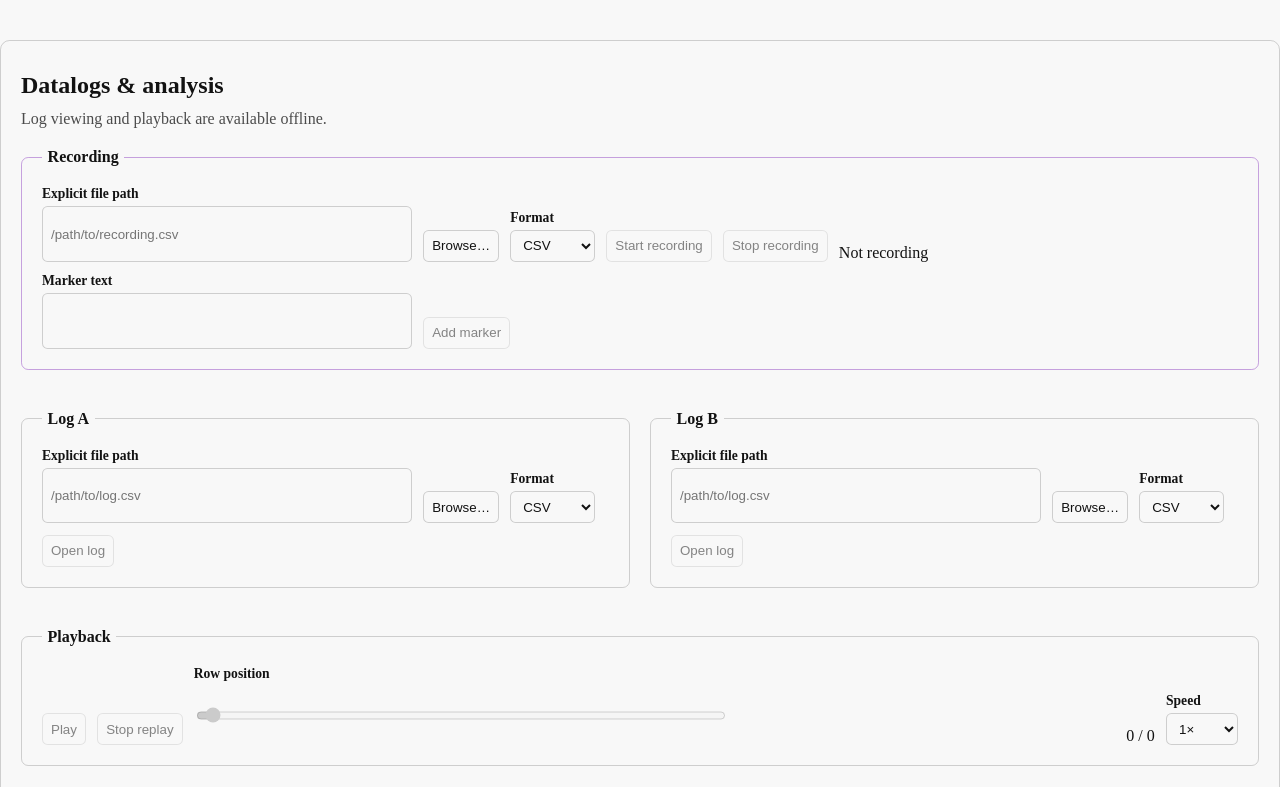
DatalogPanel › Browse buttons (native file dialogs) › Recording Browse uses save() and fills the recording destination path
Click the button "Browse…" in the row of "Not recording" at [461, 246], box [423,230,499,262]
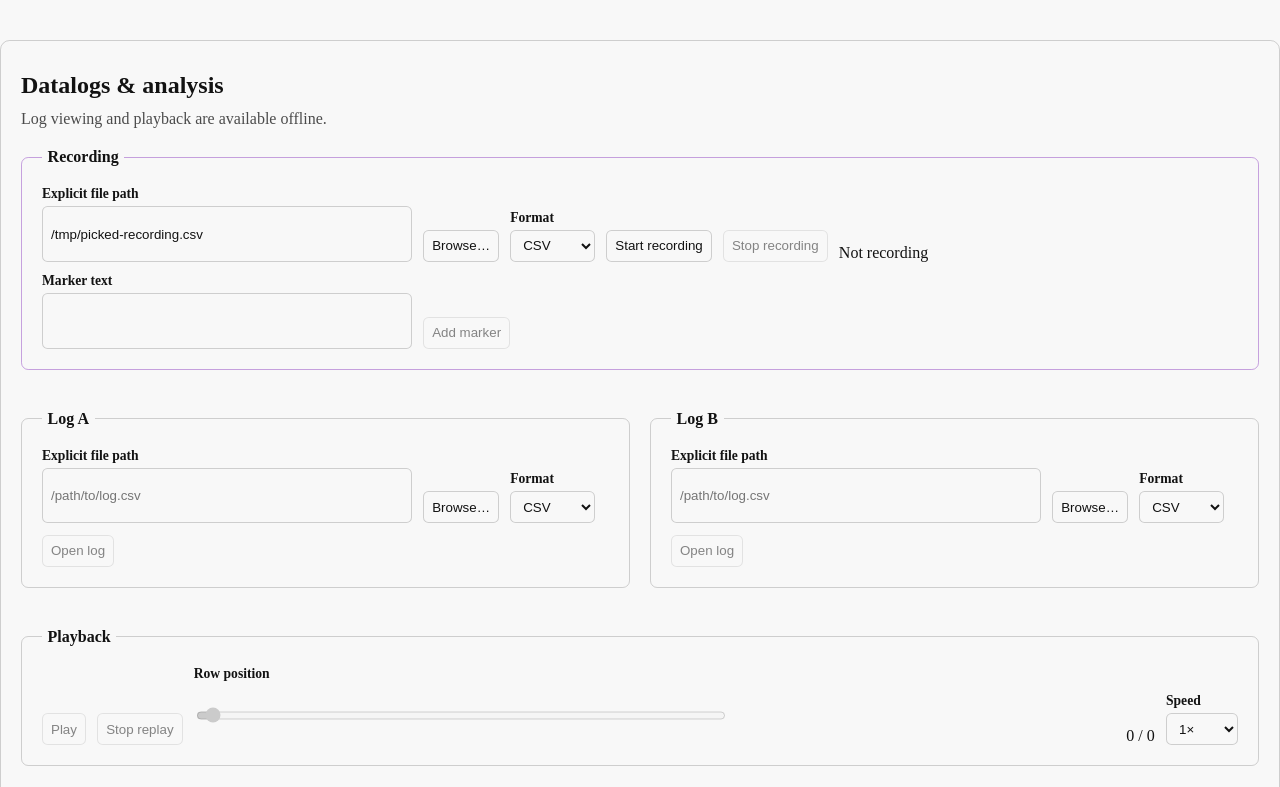
Now the field with placeholder "/path/to/recording.csv" in the row of "Not recording" holds "/tmp/picked-recording.csv", box [42,206,412,262]
